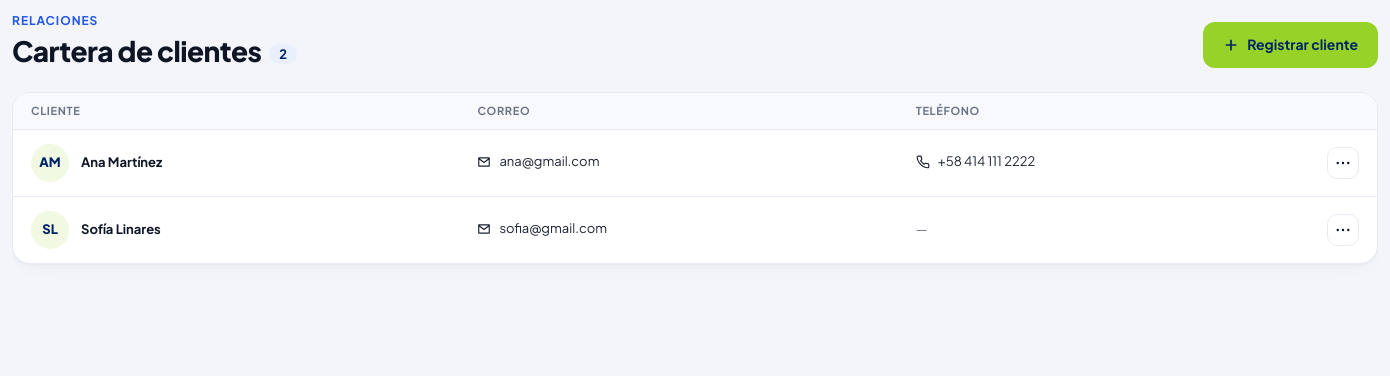
Test: la tabla ya no muestra negociaciones y cada fila tiene su menú
Expected: the text "Ana Martínez" is shown, [81, 153, 162, 173]
Expected: the column heading named "Modificar" is shown, [1311, 93, 1377, 130]
Click the button named "Opciones de Ana Martínez" at [1343, 163], box [1327, 147, 1359, 179]
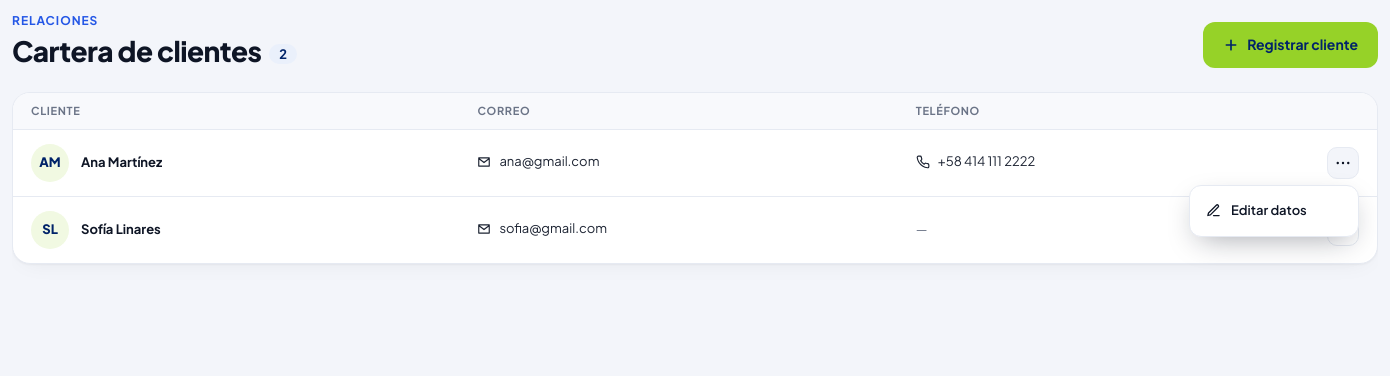
Now the menu items read "Editar datos", in this order, box [1196, 192, 1352, 230]
Press Escape
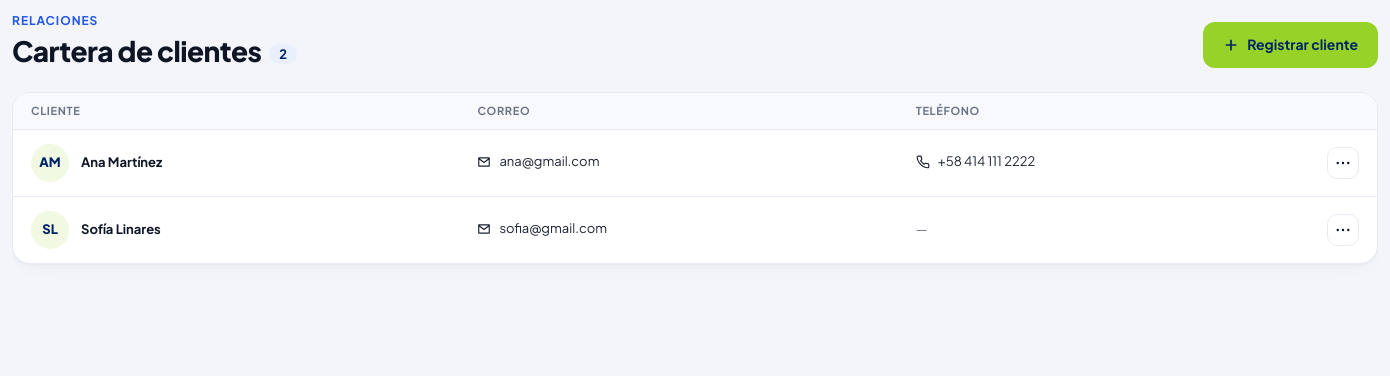
Now the menu is gone
Click the button named "Opciones de Sofía Linares" at [1343, 230], box [1327, 214, 1359, 246]
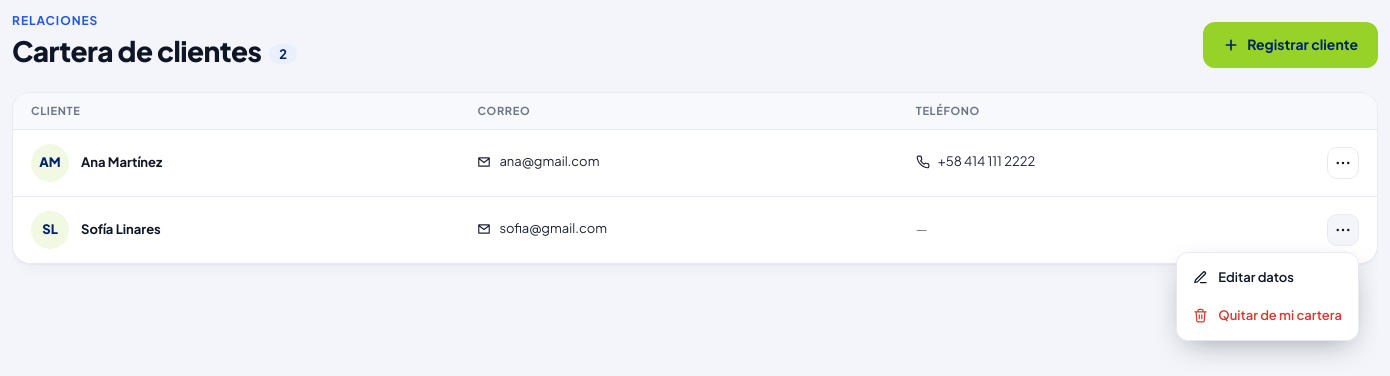
Now the menu items read "Editar datos", "Quitar de mi cartera", in this order, box [1183, 259, 1352, 297]; [1183, 297, 1352, 334]
